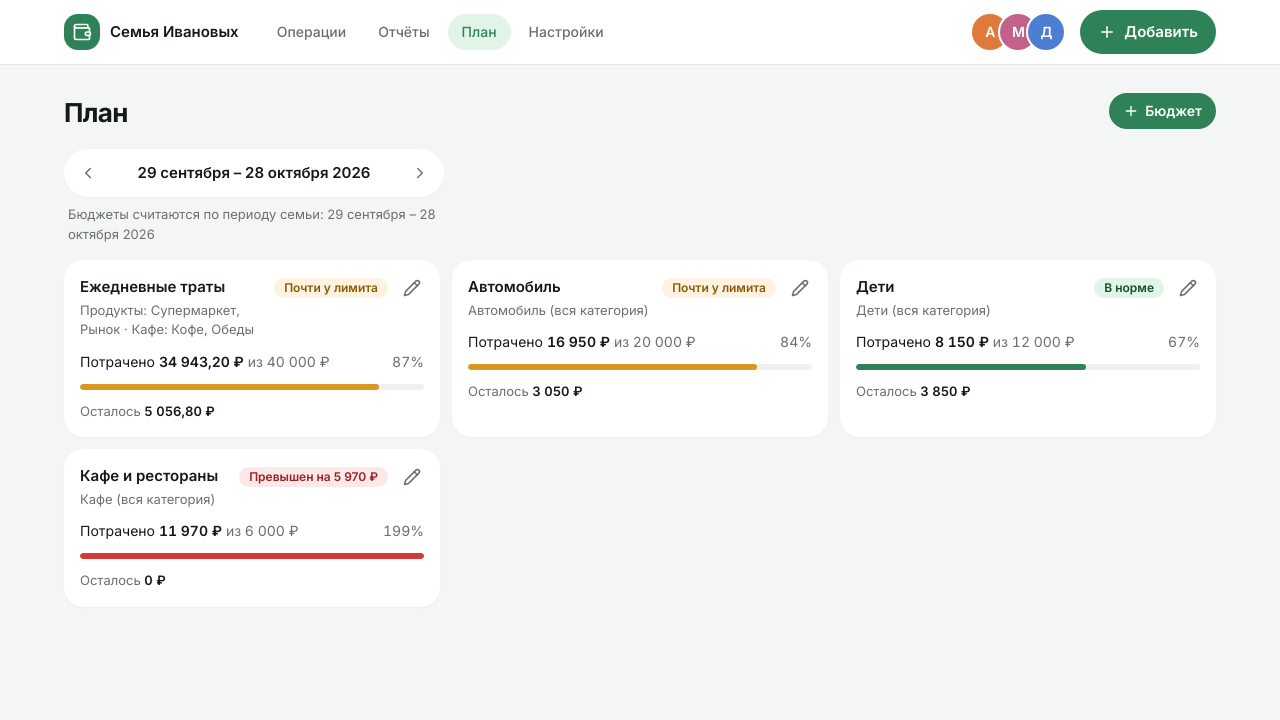
it: Экран «План» и карточки бюджетов › без элементов бюджет не сохраняется — подсказка у поля
The image size is (1280, 720).
Click the button "Бюджет": point(1163, 111) [1109,93,1216,129]
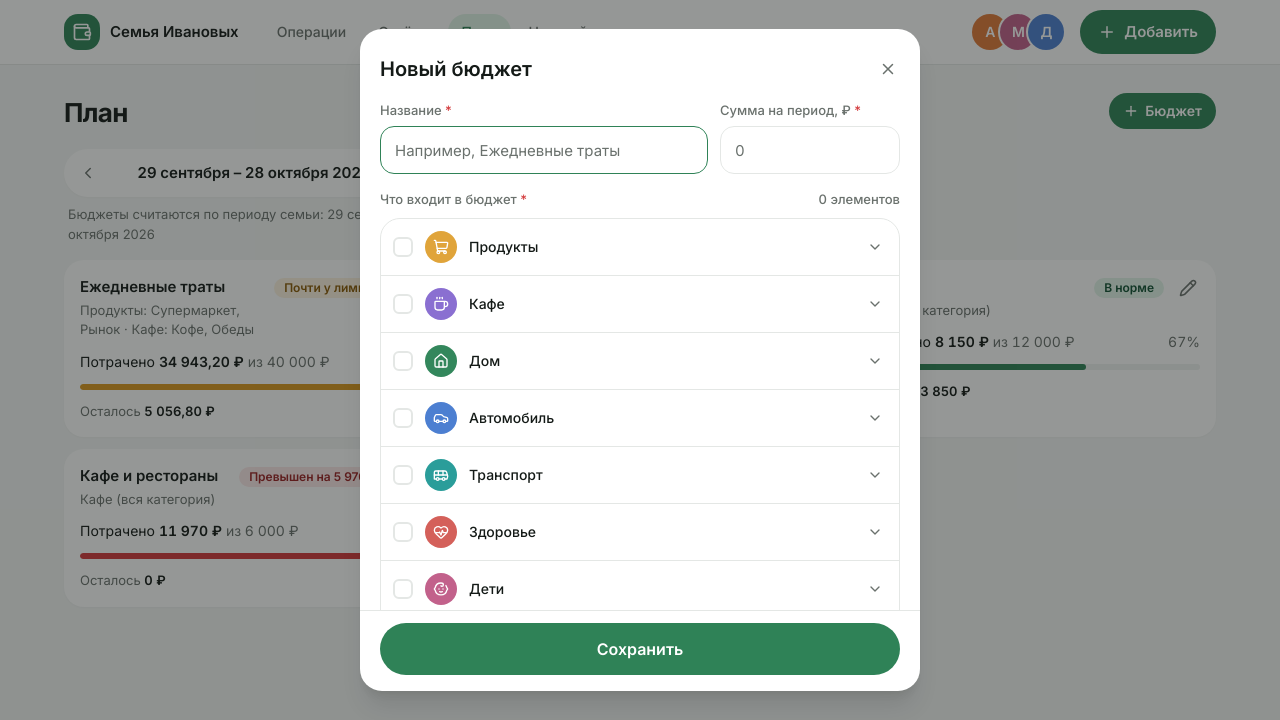
In the field labelled "Название *": point(544, 150) [380,126,708,174], type "Отпуск"
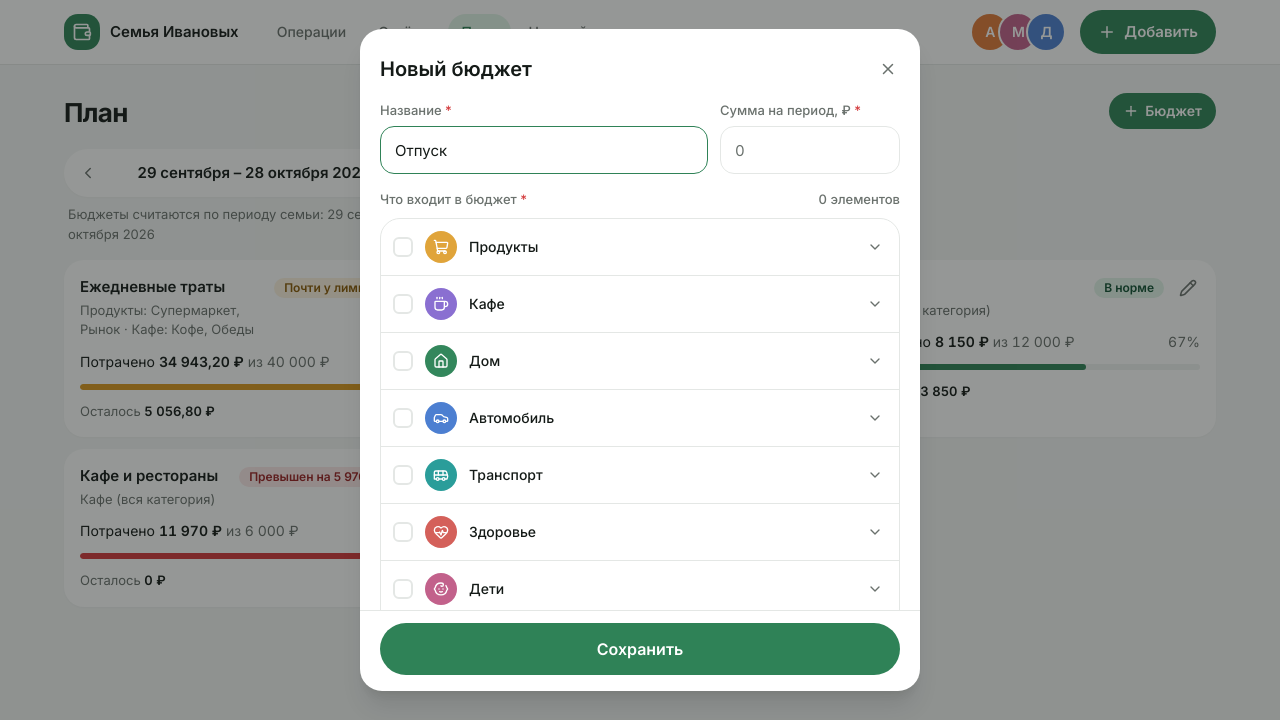
In the field labelled "Сумма на период, ₽ *": point(810, 150) [720,126,900,174], type "50000"
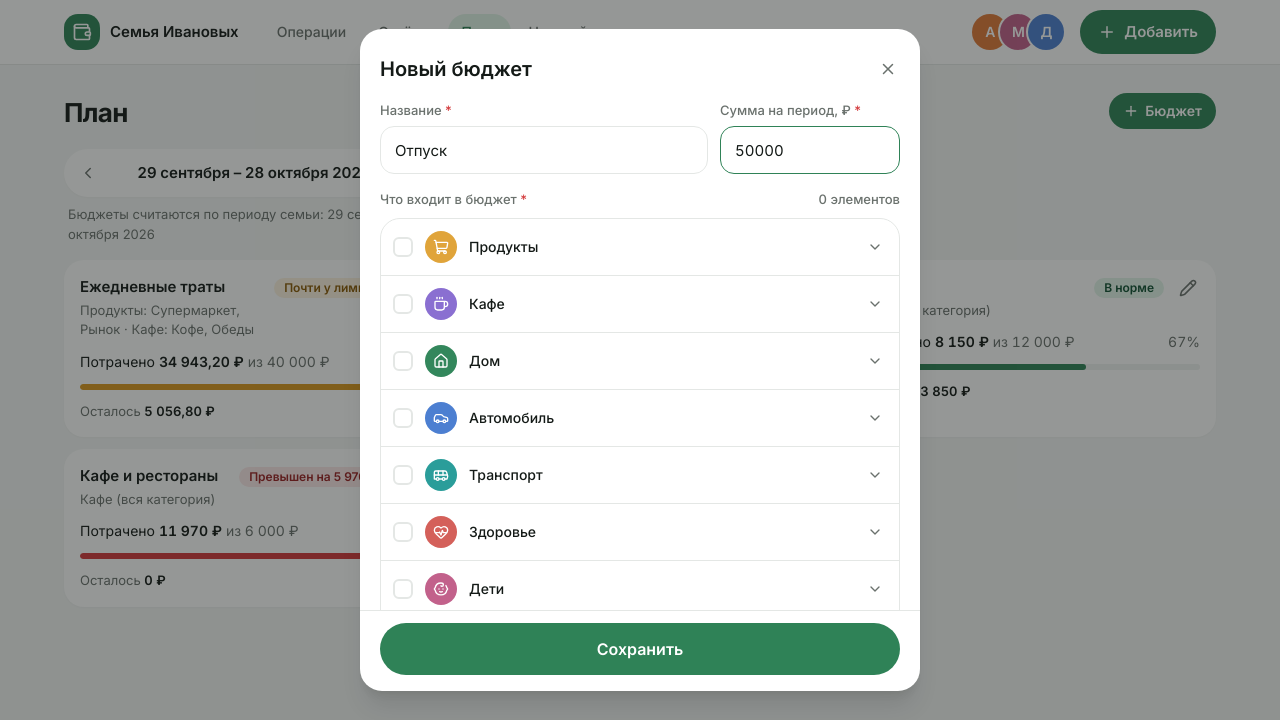
Click the button "Сохранить": point(640, 649) [380,623,900,675]
(page scrolled)
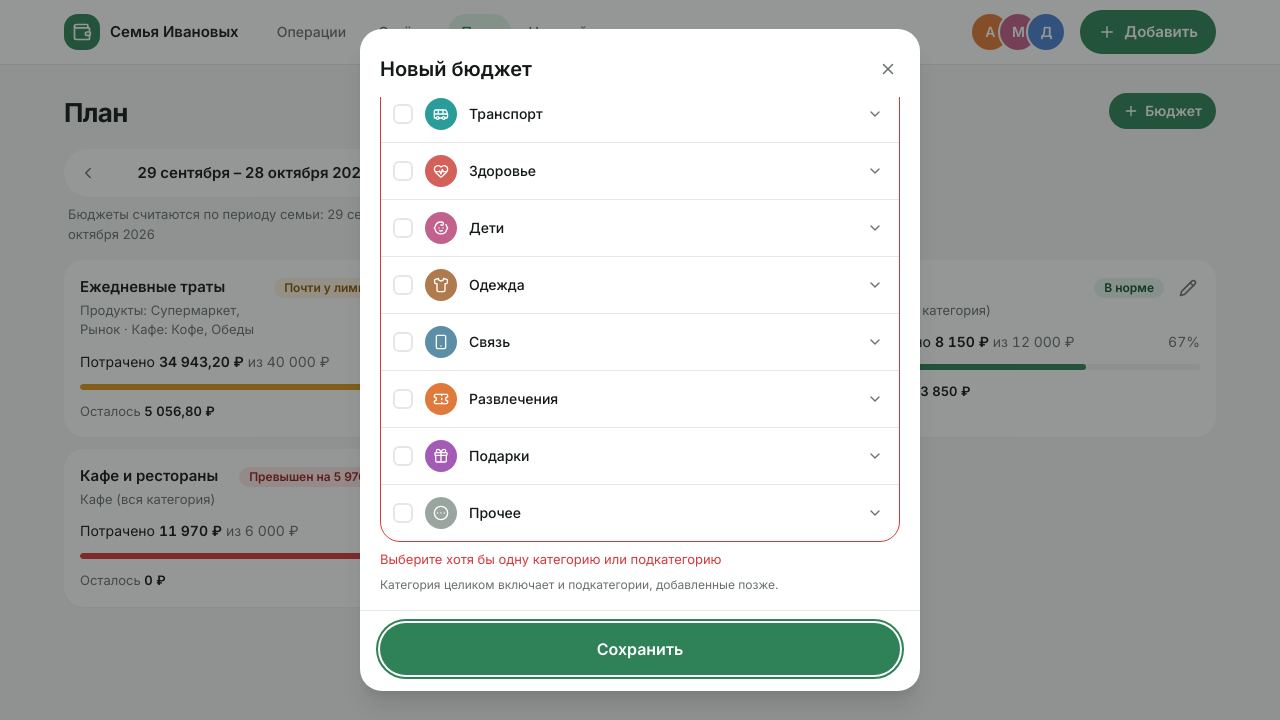
Expected: the text "Выберите хотя бы одну категорию или подкатегорию" is shown, [380,551,722,567]
